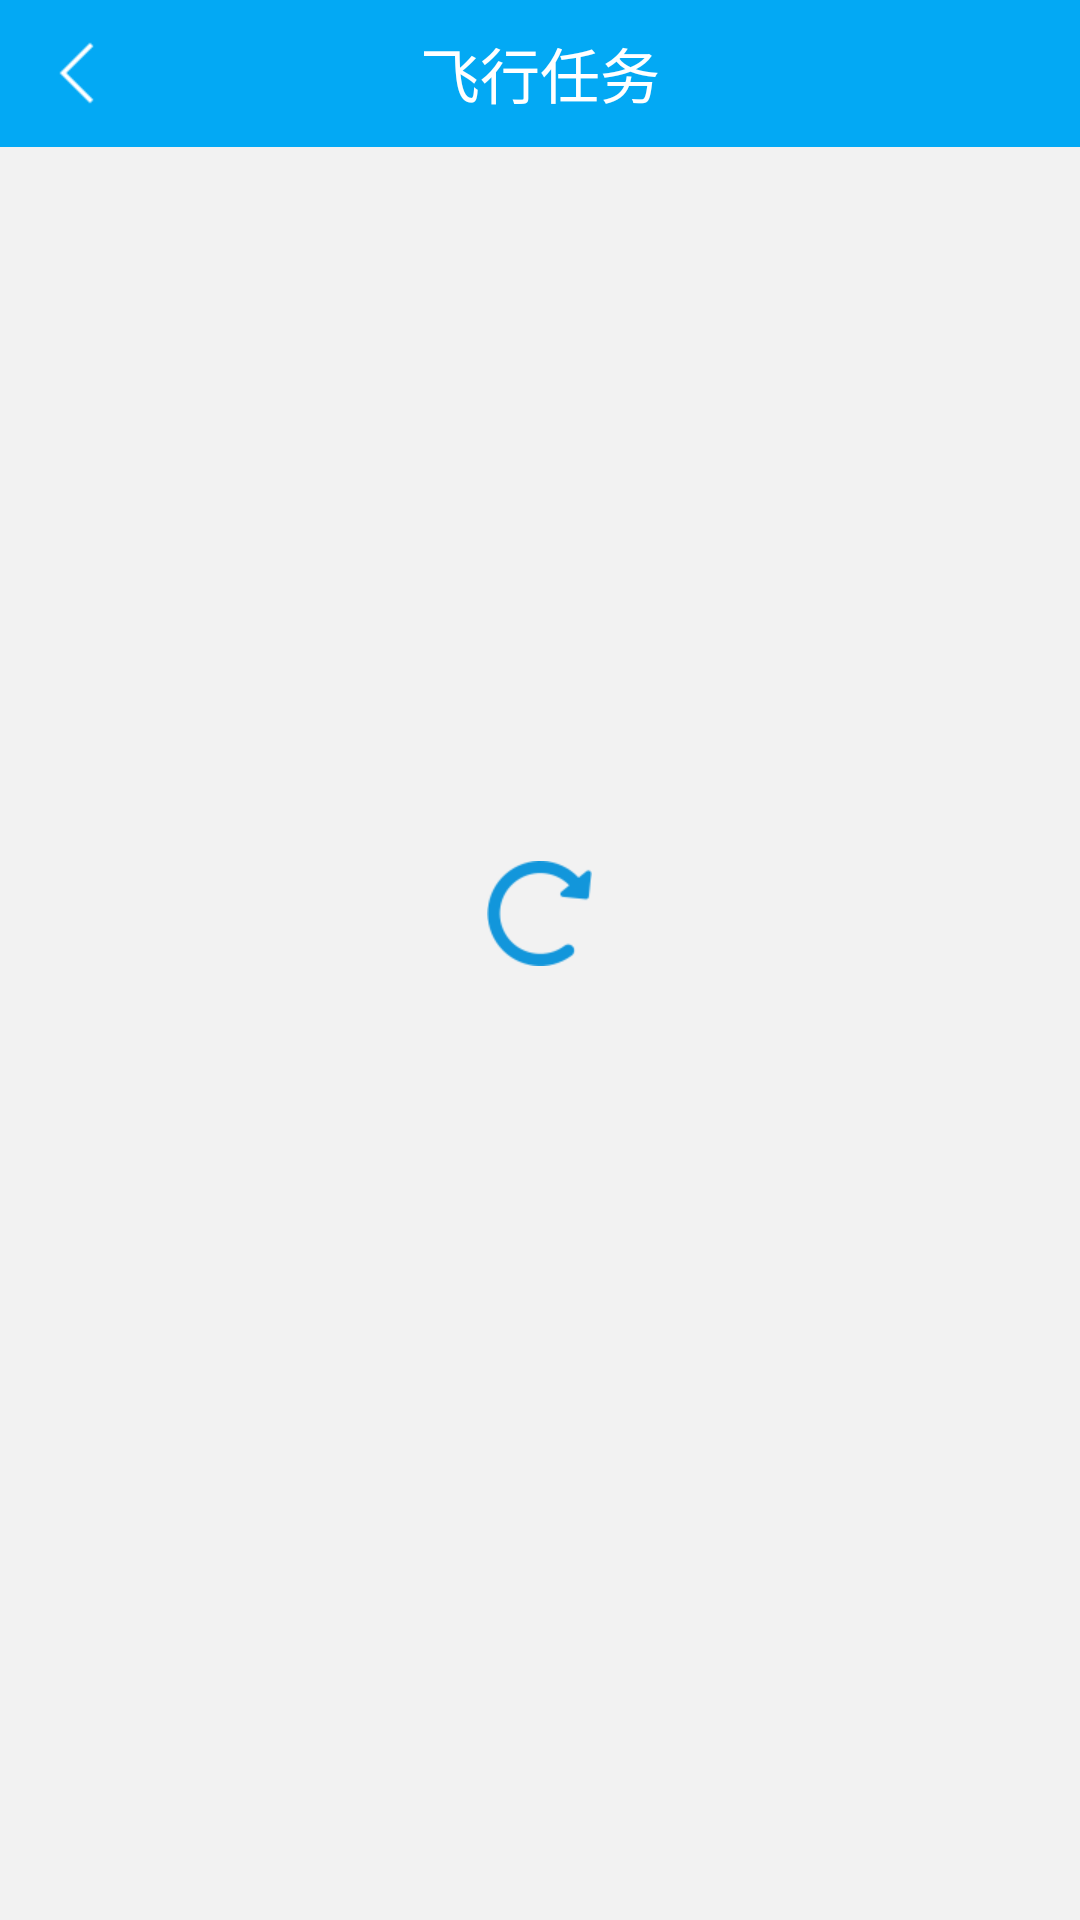

Screen size 1080 x 1920. Icon name, then its box in pixels as {"x1": x1, "y1": y1, "x2": x2, "y2": y2}:
back: {"x1": 59, "y1": 43, "x2": 94, "y2": 103}
